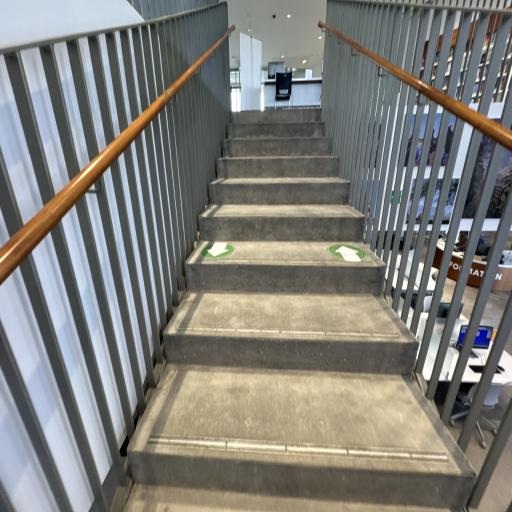Stairs: (126, 109, 475, 512), (186, 238, 385, 298), (124, 483, 450, 512), (199, 204, 364, 250), (209, 177, 350, 205), (217, 156, 340, 178), (222, 136, 332, 157)
